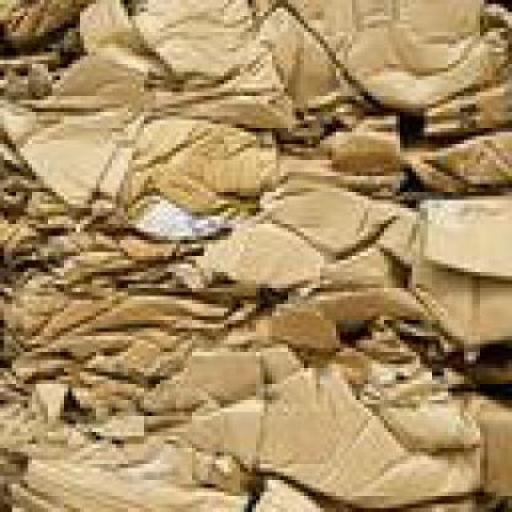cardboard: (4, 0, 510, 510), (204, 328, 511, 508), (263, 0, 511, 117), (4, 288, 268, 388), (142, 0, 324, 137), (204, 164, 424, 276), (132, 112, 284, 233), (400, 192, 511, 357), (4, 96, 144, 224), (4, 452, 248, 508), (4, 220, 204, 288), (4, 364, 192, 436), (276, 256, 400, 356), (4, 376, 136, 468), (60, 0, 180, 100), (148, 340, 304, 404), (256, 472, 511, 508), (284, 116, 404, 192), (400, 120, 511, 188), (4, 160, 68, 263), (3, 0, 96, 60), (432, 72, 511, 136), (4, 48, 64, 96)
